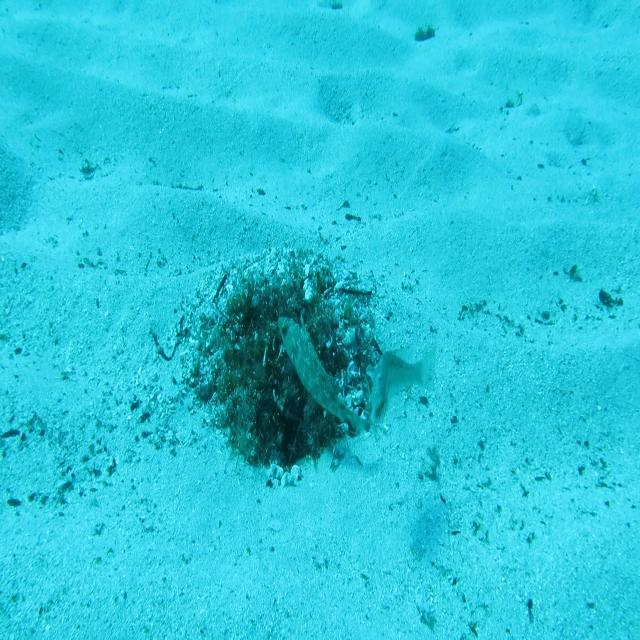FAN: (276, 314, 372, 441)
core_nest: (254, 298, 306, 336)
female: (366, 340, 438, 428)
nest: (170, 244, 392, 496)
vegetation: (413, 23, 439, 44)
